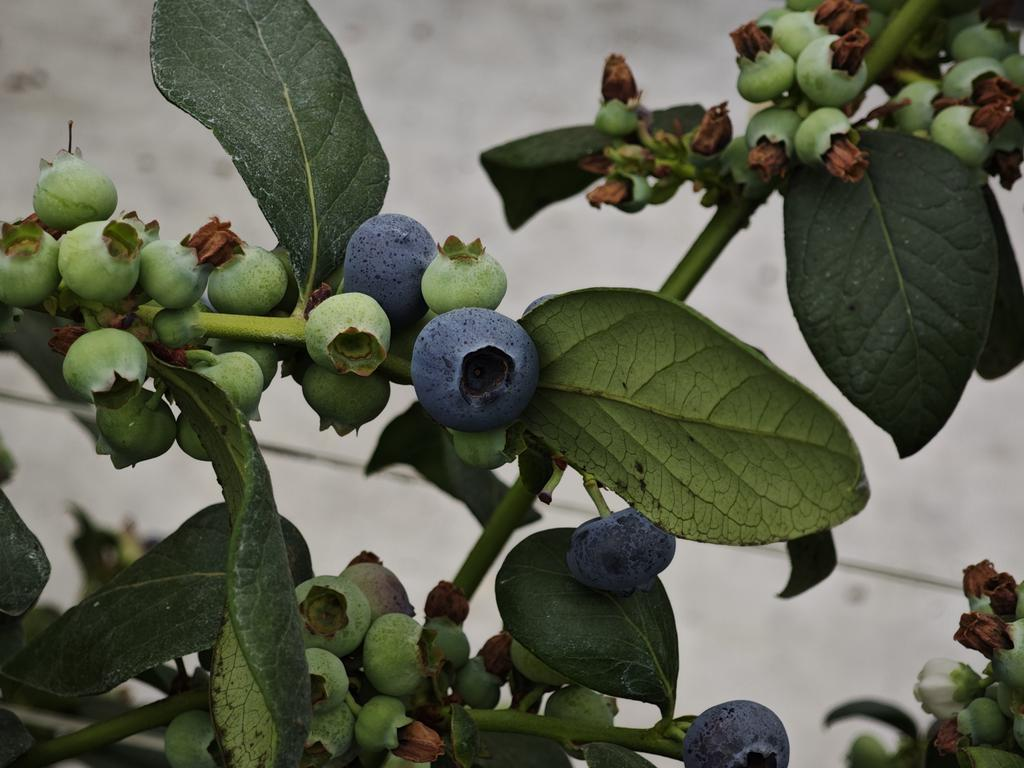RipeBlueBerry: (416, 309, 541, 432), (570, 507, 676, 596)
UnripeBlueBerry: (309, 292, 394, 377), (63, 328, 146, 409), (296, 576, 369, 650)
